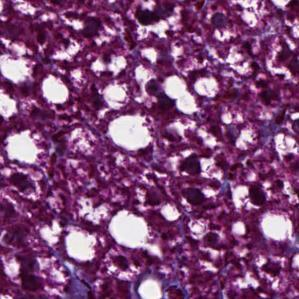steatosis: (105, 207, 151, 245), (105, 117, 151, 151)
